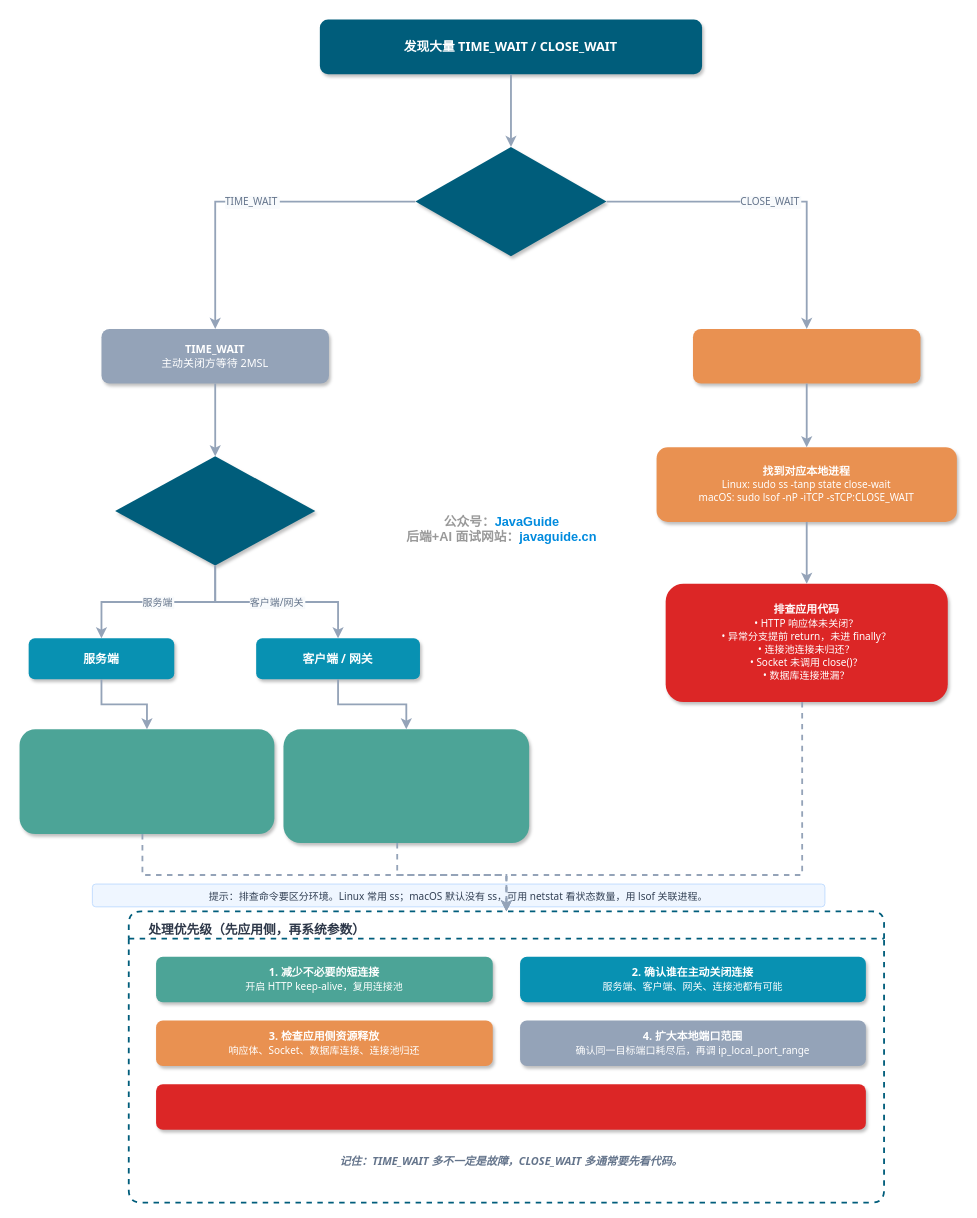
This 977x1218 diagram has some shape labels left out. Each missing label, with the centre of its shape:
"5. 最后评估内核参数 tcp_tw_reuse 等需结合 Linux 版本、NAT、时间戳判断，不建议照抄" goes at pixel 511 1108.
"CLOSE_WAIT 被动关闭方等待应用 close()/shutdown()" goes at pixel 807 357.
"TIME_WAIT 主要出现在哪一侧？" goes at pixel 215 511.
"主要是哪个状态？" goes at pixel 511 202.
"检查服务端为何主动关闭 • 连接空闲超时？ • Connection: close？ • 网关关闭上游连接？ • 连接池主动淘汰？" goes at pixel 147 782.
"检查短连接和端口压力 • 是否集中到同一目标 IP:Port？ • 连接池未复用？ • HTTP keep-alive 没开？ • 上游频繁断连？" goes at pixel 406 787.
